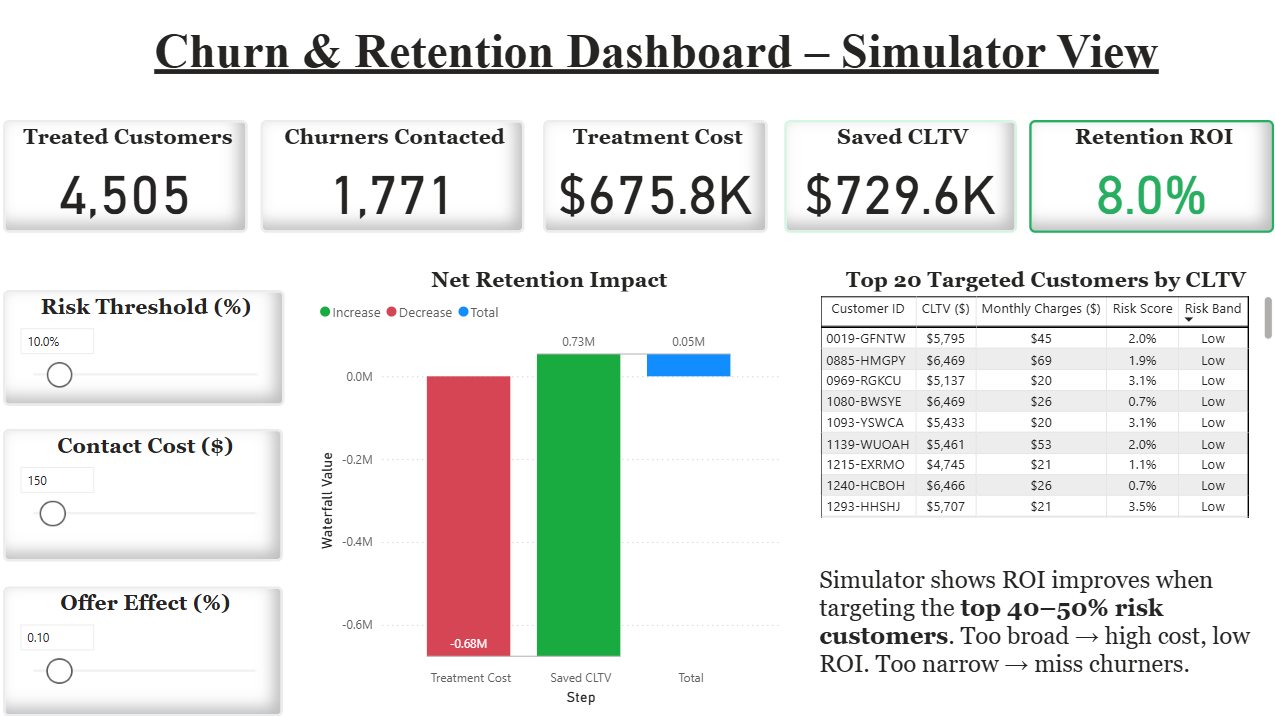

This screenshot's page, from the dashboard's own definition file:
{"tool":"powerbi","page":{"name":"Simulator","canvas":[1280,720],"ordinal":3},"visuals":[{"type":"slicer","title":"Risk Threshold (%)","fields":{"Values":["RiskThreshold 2.RiskThreshold"]},"box":[5,290,281.2,116.2],"z":0},{"type":"slicer","title":"Offer Effect (%)","fields":{"Values":["OfferLift 2.OfferLift"]},"box":[5,586.2,280,130],"z":1000},{"type":"card","title":"Treated Customers","fields":{"Values":["ibm_telco_scored.Treated Customers"]},"box":[5,120,245,112.5],"z":2000},{"type":"card","title":"Churners Contacted","fields":{"Values":["ibm_telco_scored.Churners Contacted"]},"box":[262.5,120,263.8,112.5],"z":3000},{"type":"card","title":"Retention ROI","fields":{"Values":["ibm_telco_scored.Retention ROI"]},"box":[1031.2,120,245,112.5],"z":4000},{"type":"card","title":"Saved CLTV","fields":{"Values":["ibm_telco_scored.Saved CLTV"]},"box":[786.2,120,232.5,112.5],"z":5000},{"type":"card","title":"Treatment Cost","fields":{"Values":["ibm_telco_scored.Treatment Cost"]},"box":[545,120,225,112.5],"z":6000},{"type":"slicer","title":"Contact Cost ($)","fields":{"Values":["CostPerContact 2.CostPerContact"]},"box":[5,428.8,280,132.5],"z":7000},{"type":"tableEx","title":"Top 20 Targeted Customers by CLTV","fields":{"Values":["ibm_telco_scored.customerid","ibm_telco_scored.cltv","ibm_telco_scored.monthly_charges","ibm_telco_scored.risk_score","ibm_telco_scored.risk_band"]},"box":[816.2,267.5,463.8,255],"z":8000},{"type":"waterfallChart","title":"Net Retention Impact","fields":{"Category":["Waterfall Steps.Step"],"Y":["ibm_telco_scored.Waterfall Value"]},"box":[316.2,267.5,470,442.5],"z":9000},{"type":"textbox","box":[816.2,561.2,463.8,148.8],"z":10000},{"type":"textbox","box":[151.2,18.8,1027.5,91.2],"z":11000}]}

Visuals, with their boxes in screenshot pixels (x1, y1, x2, y2), scaled from the page's 1280x720 canvas onto the 1275x716 screenshot:
"Risk Threshold (%)" slicer: bbox=[5, 288, 285, 404]
"Offer Effect (%)" slicer: bbox=[5, 583, 284, 712]
"Treated Customers" card: bbox=[5, 119, 249, 231]
"Churners Contacted" card: bbox=[261, 119, 524, 231]
"Retention ROI" card: bbox=[1027, 119, 1271, 231]
"Saved CLTV" card: bbox=[783, 119, 1015, 231]
"Treatment Cost" card: bbox=[543, 119, 767, 231]
"Contact Cost ($)" slicer: bbox=[5, 426, 284, 558]
"Top 20 Targeted Customers by CLTV" tableEx: bbox=[813, 266, 1274, 520]
"Net Retention Impact" waterfallChart: bbox=[315, 266, 783, 706]
textbox: bbox=[813, 558, 1274, 706]
textbox: bbox=[151, 19, 1174, 109]
